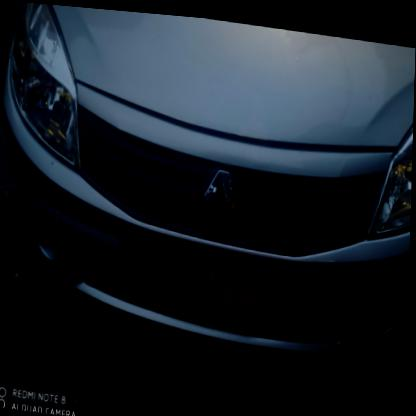placa: (149, 239, 274, 323)
